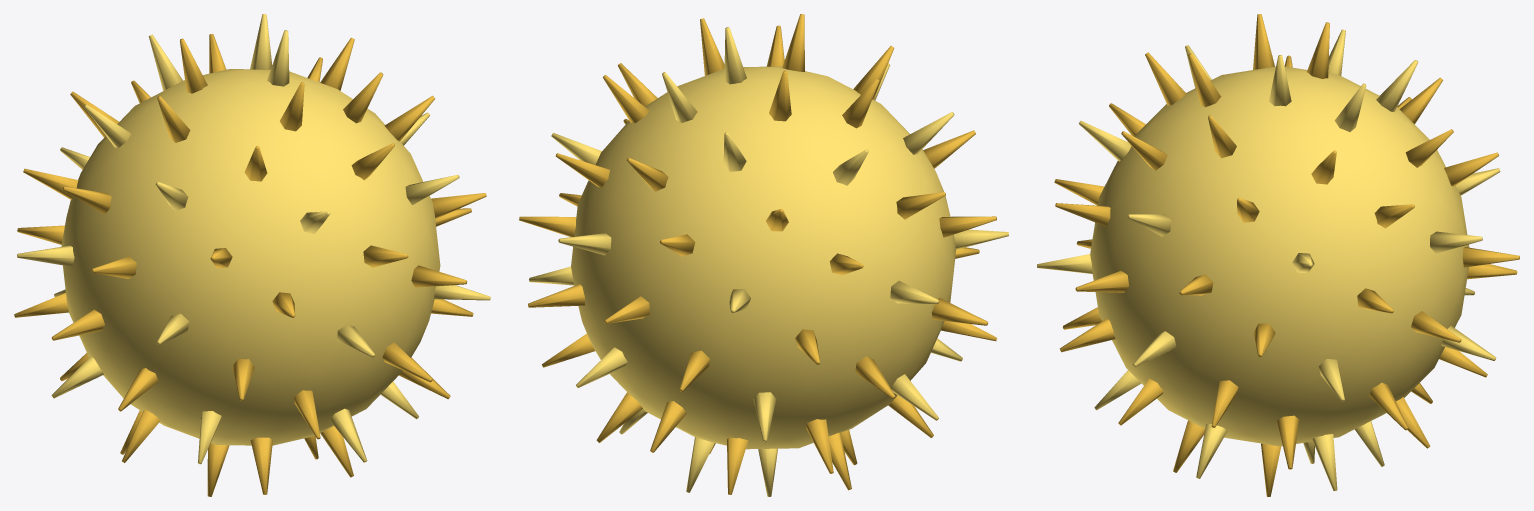
Rendered from G13_Pollen_Boulder.glb.
3 views of the same model, side by side, from view 1: azimuth 30°, elevation 25°; view 2: azimuth 150°, elevation 25°; view 3: azimuth 270°, elevation 25° (orthographic).
Visible parts, largest first — view 1: G13_Rotor_Ball, G13_Rotor_Ball_Mesh; view 2: G13_Rotor_Ball, G13_Rotor_Ball_Mesh; view 3: G13_Rotor_Ball, G13_Rotor_Ball_Mesh.
Boxes of the visible parts, x1,y1,x2,y2 form: G13_Rotor_Ball: [61, 69, 440, 445]; G13_Rotor_Ball_Mesh: [14, 14, 490, 496]; G13_Rotor_Ball: [571, 66, 956, 449]; G13_Rotor_Ball_Mesh: [519, 14, 1008, 496]; G13_Rotor_Ball: [1090, 66, 1469, 446]; G13_Rotor_Ball_Mesh: [1037, 14, 1519, 496].
Bounding box in the file's own units: 2.29 × 2.27 × 2.28.
